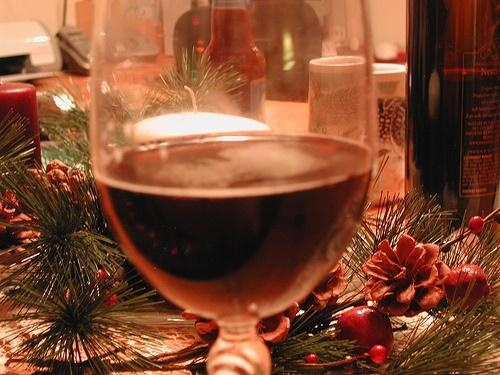bottle: (405, 1, 500, 227), (199, 1, 266, 128)
